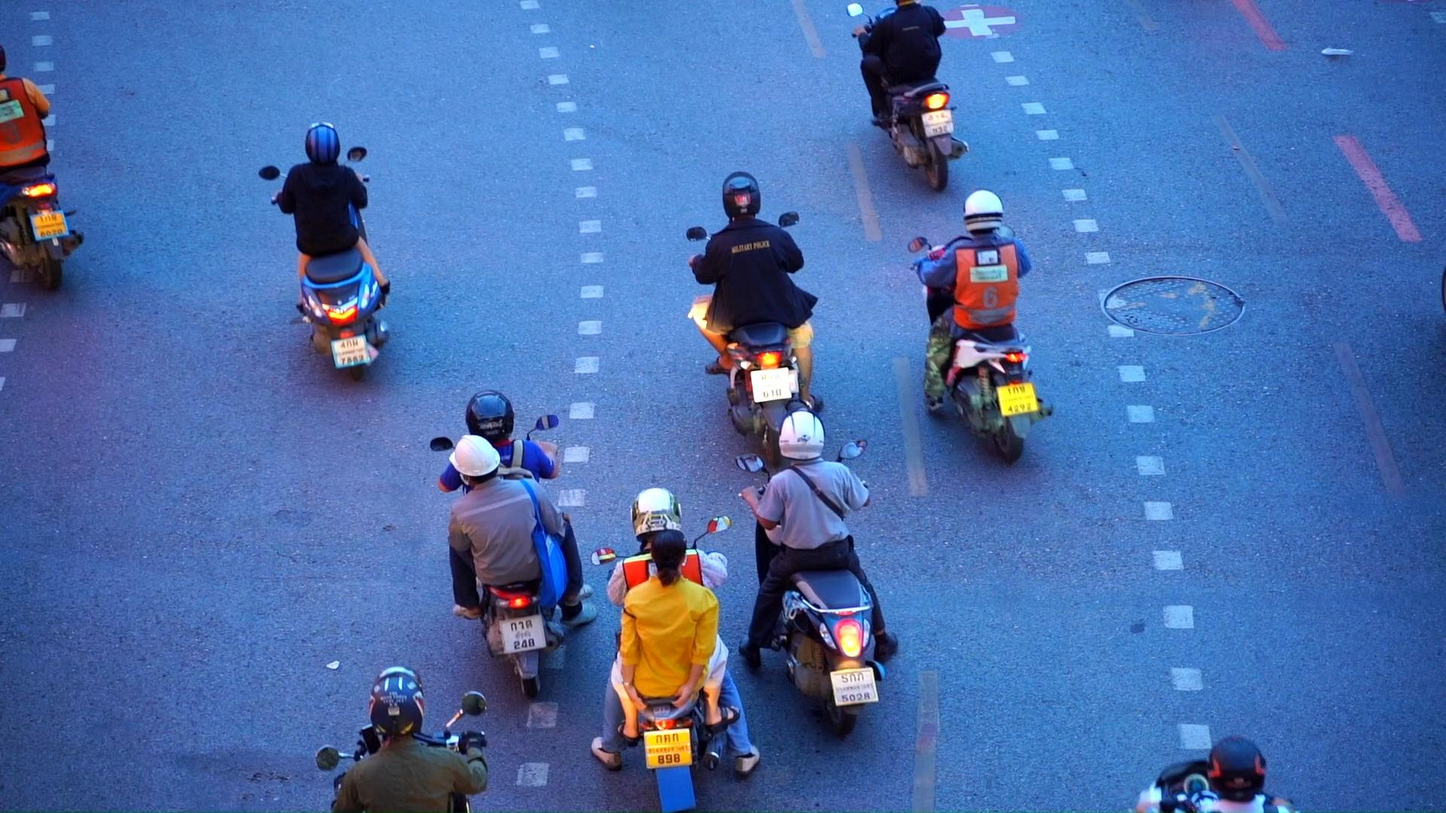driver: (591, 486, 761, 813), (734, 406, 898, 739), (430, 389, 598, 700), (685, 171, 824, 468), (908, 188, 1054, 464), (259, 121, 390, 381), (315, 665, 489, 813), (846, 0, 970, 193), (0, 44, 86, 292), (1136, 737, 1297, 813)
helmet: (368, 664, 425, 745), (1206, 737, 1266, 792), (448, 434, 501, 495), (630, 487, 683, 543), (778, 405, 825, 463), (466, 389, 514, 443), (722, 171, 761, 224), (963, 189, 1004, 232), (305, 121, 340, 166)
no-helmet: (651, 529, 688, 587)
